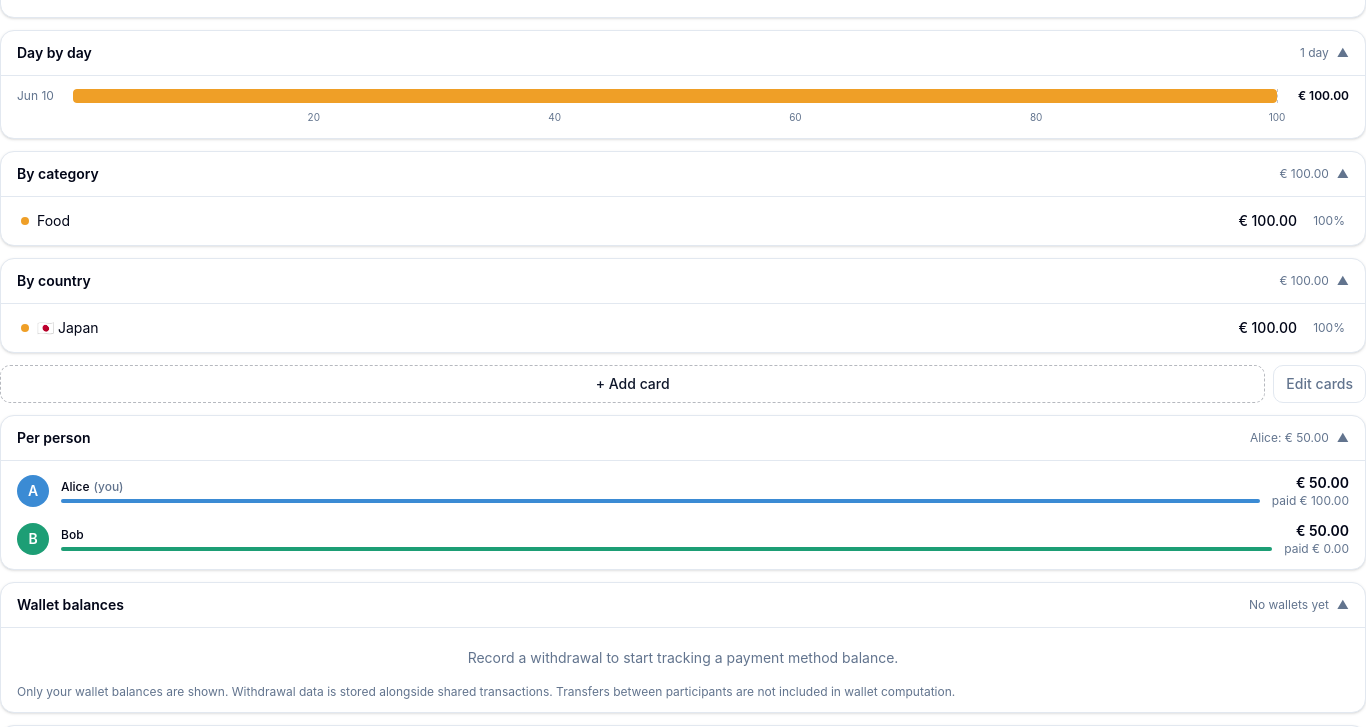
Test: DashboardTab — card builder › offers only breakdownable dimensions — no members, no text fields
(page scrolled)
Click the button "+ Add card" at (633, 384), box [0,365,1265,403]
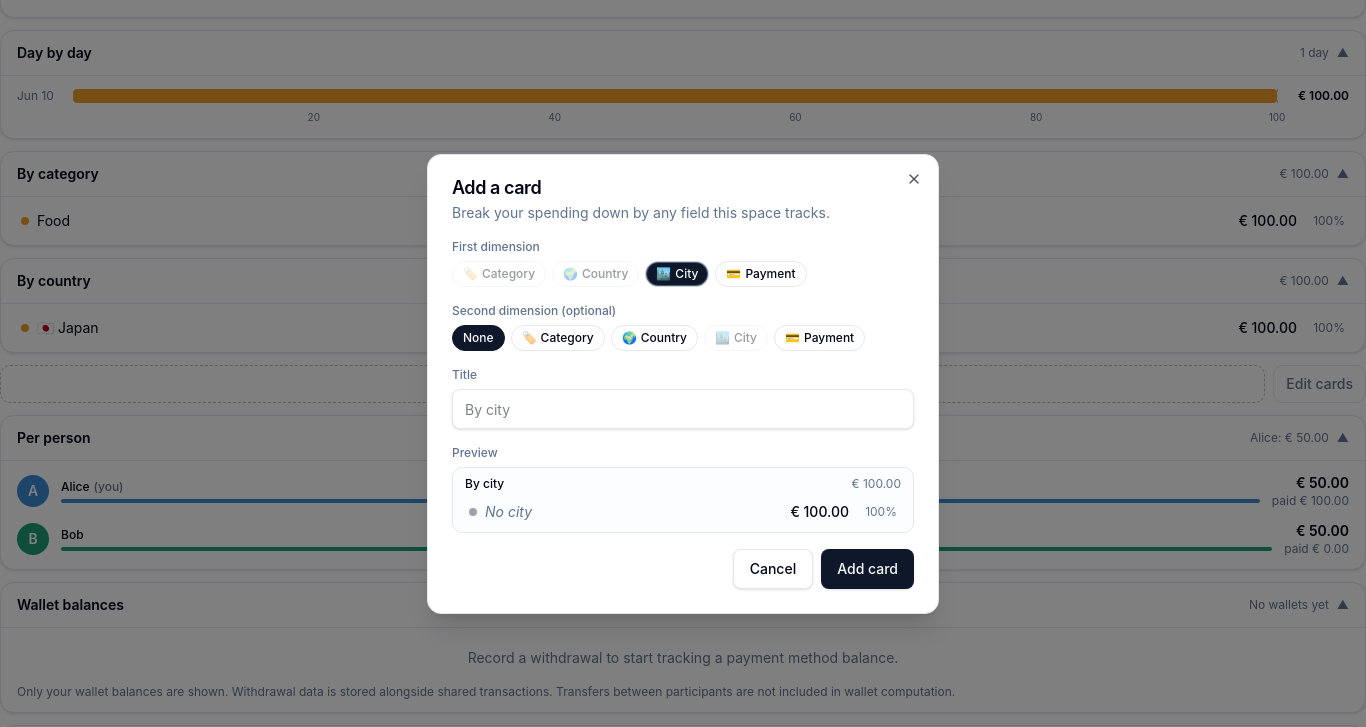
Check: the button "🏷️ Category" below "First dimension" is shown, box [452,261,546,287]
